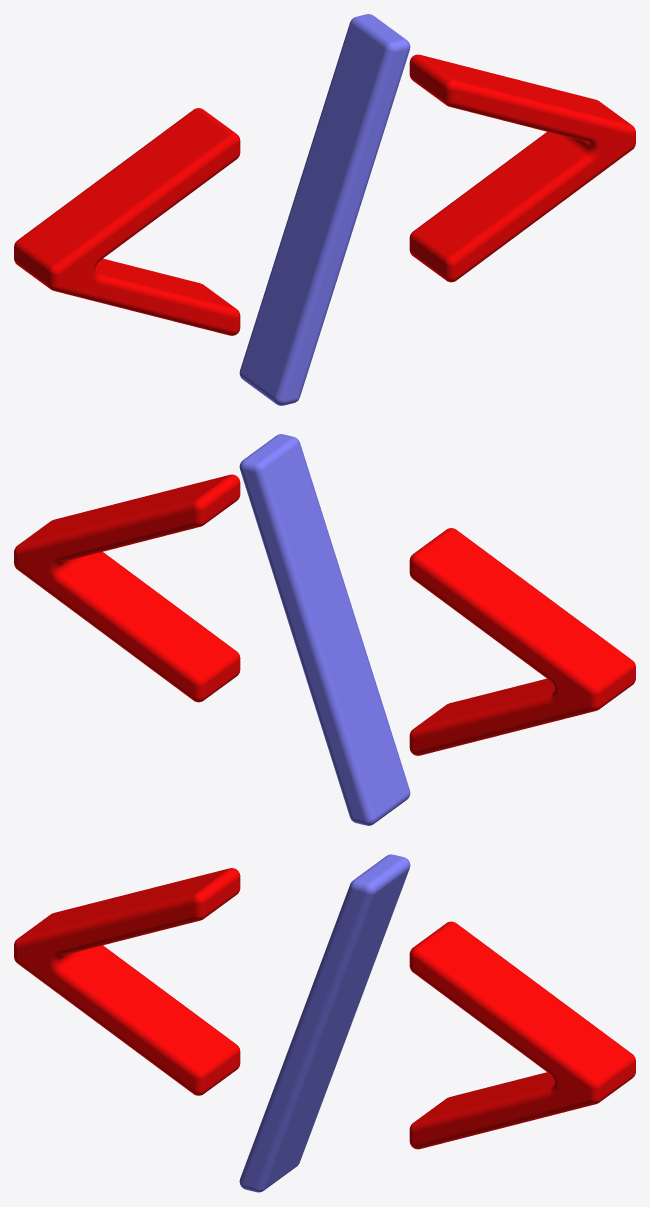
File: tag.glb
The picture shows the model from 3 angles, top to bottom: view 1: azimuth 30°, elevation 25°; view 2: azimuth 150°, elevation 25°; view 3: azimuth 330°, elevation 25°; orthographic projection.
Parts seen in each view (by area): view 1: Part002, Part1, Part003; view 2: Part002, Part1, Part003; view 3: Part1, Part003, Part002.
Boxes of the visible parts, <box> form: Part002: <box>239,14,410,405</box>; Part1: <box>14,108,240,335</box>; Part003: <box>409,54,635,282</box>; Part002: <box>239,434,410,825</box>; Part1: <box>409,528,635,755</box>; Part003: <box>14,474,240,702</box>; Part1: <box>14,868,240,1095</box>; Part003: <box>409,921,635,1149</box>; Part002: <box>239,854,410,1192</box>.
Bounding box in the file's own units: 0.0405 × 0.0222 × 0.005.
